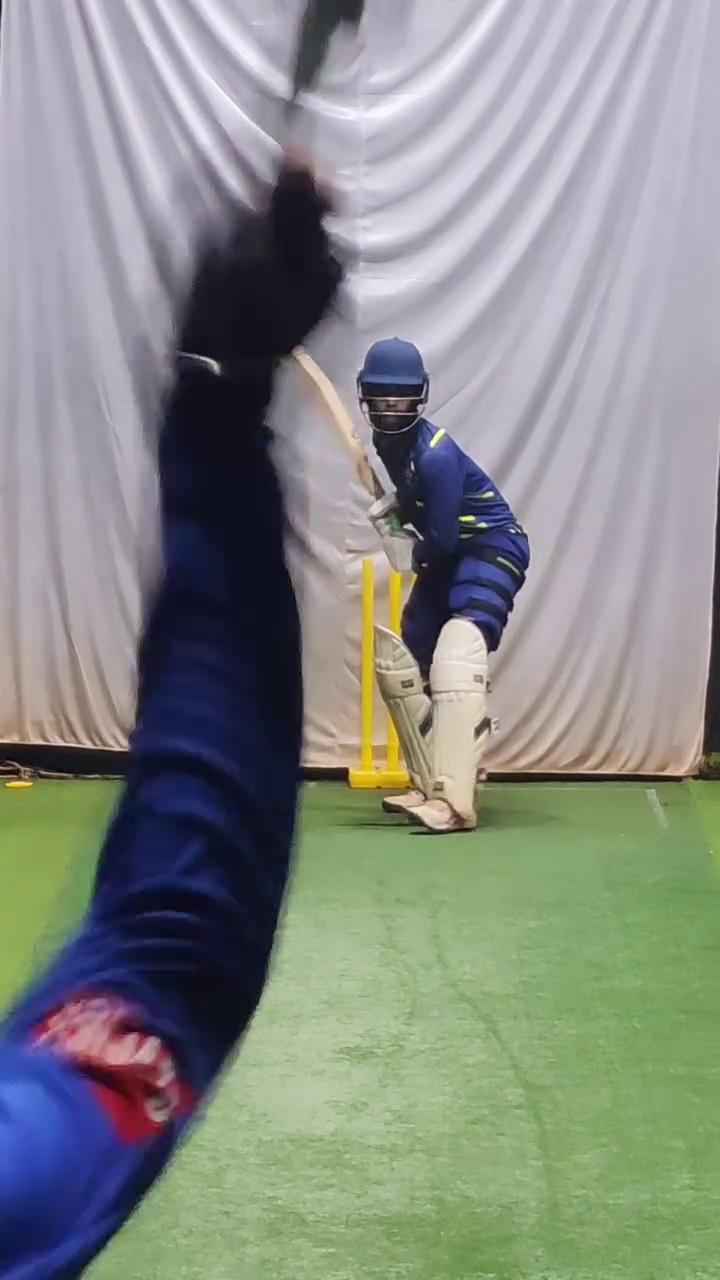bat: (286, 338, 386, 506)
